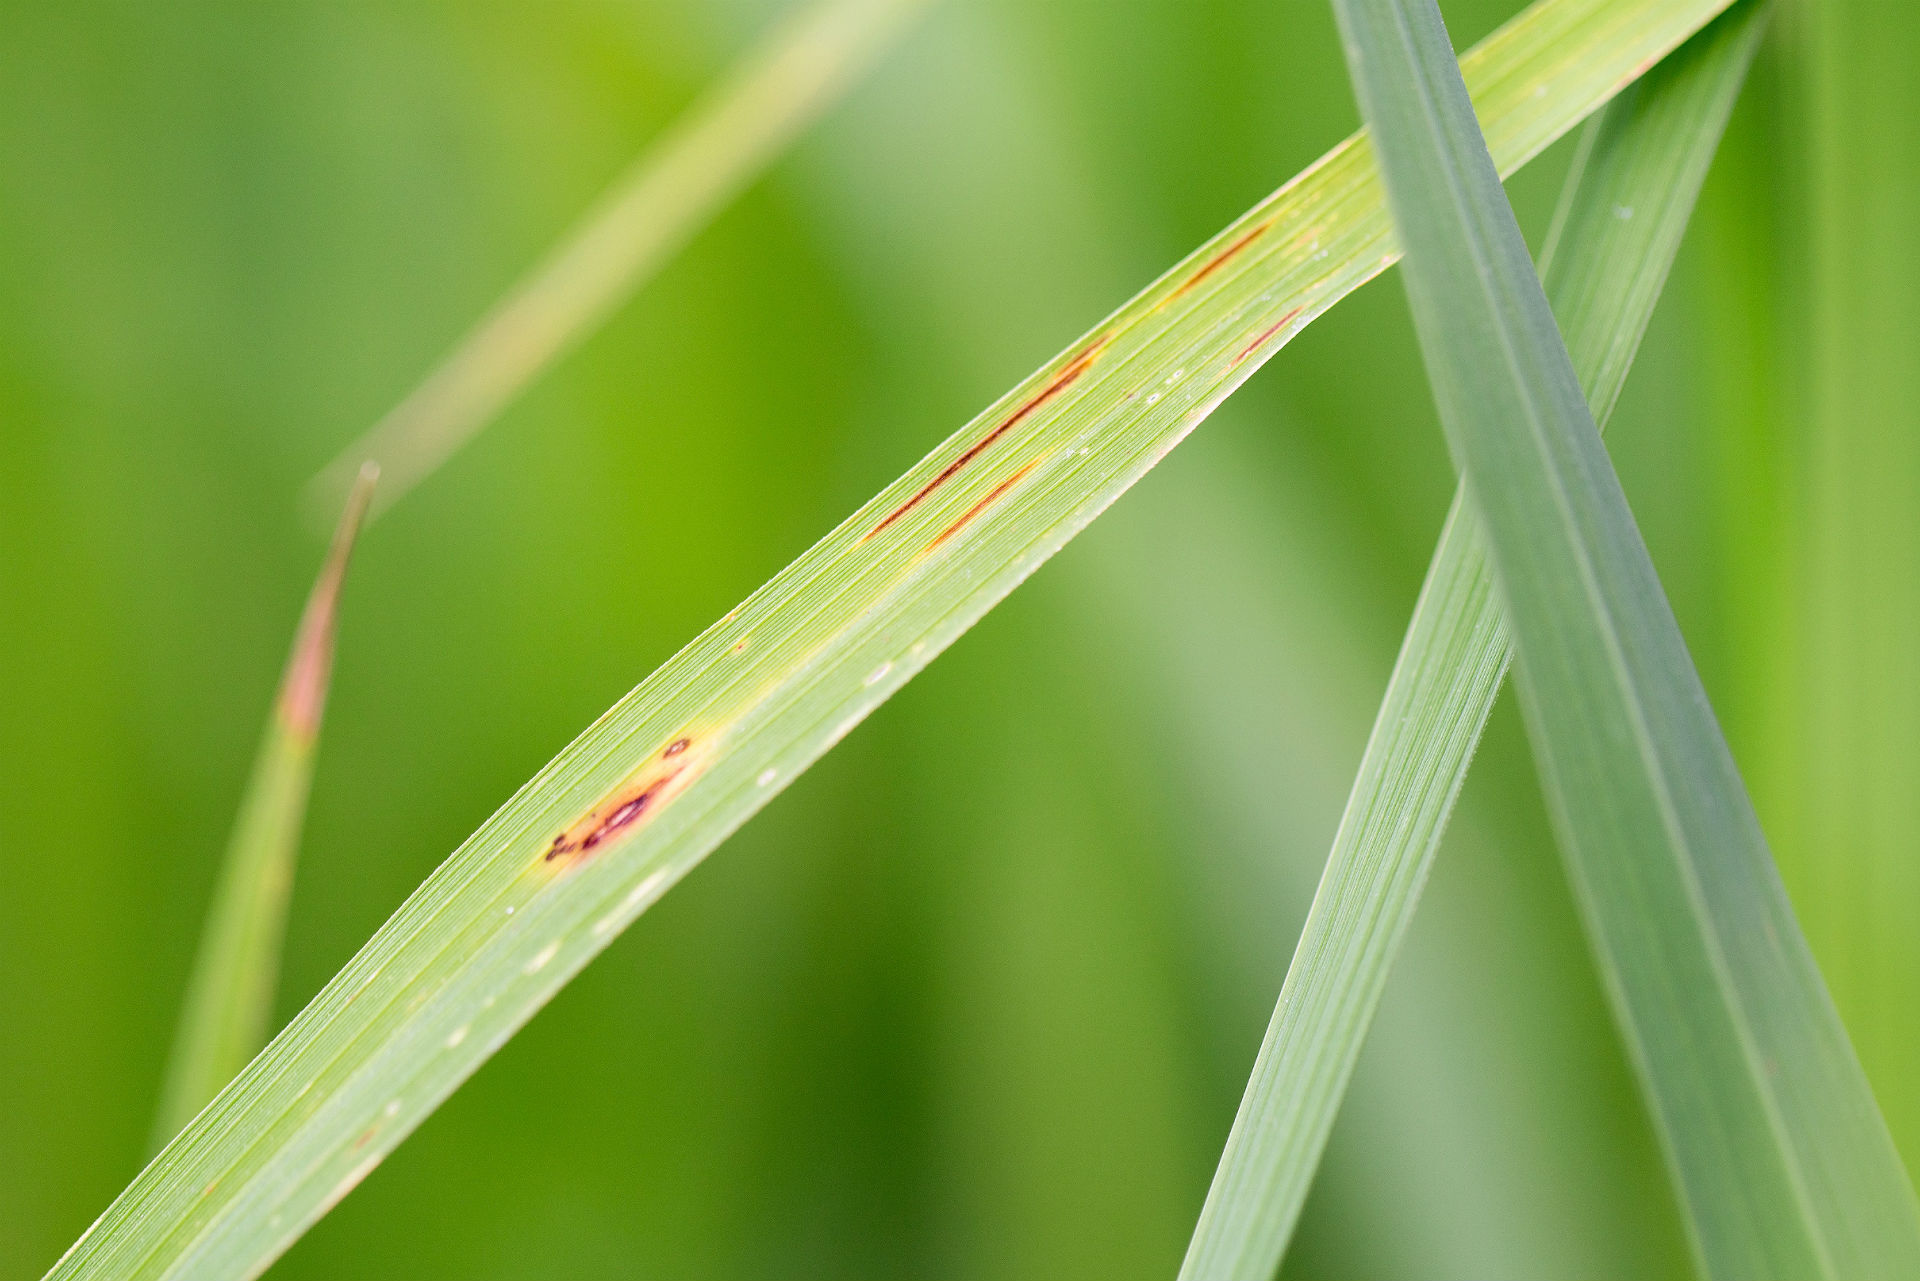Bercak Coklat: (843, 350, 1099, 522), (536, 746, 699, 875)
Hawar Daun: (273, 446, 393, 751)
